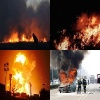fire: (53, 14, 100, 50), (12, 53, 30, 96), (59, 69, 77, 88), (0, 34, 34, 42), (38, 37, 47, 42)
